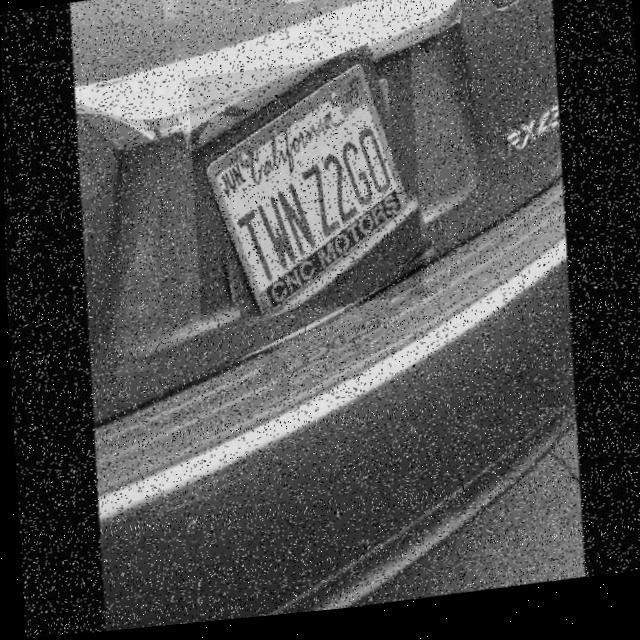LicensePlate: (187, 56, 422, 327)
